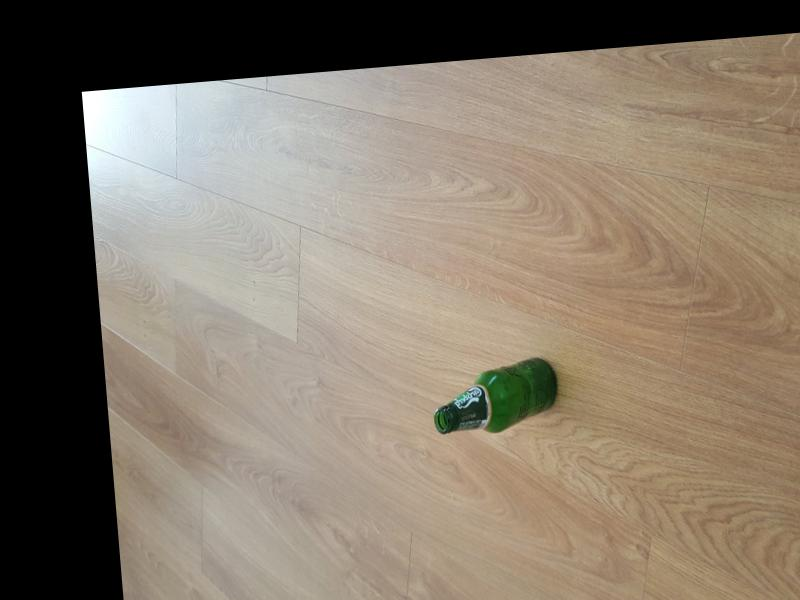Beer: (428, 354, 561, 438)
